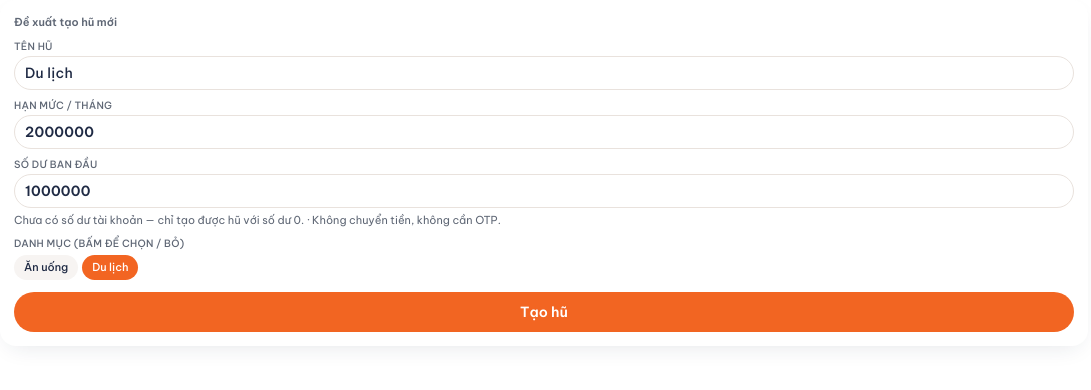
Scenario: AgentJarFormCard — create with an opening balance › pool unknown: says so and refuses a funded balance
Expected: the text "Chưa có số dư tài khoản — chỉ tạo được hũ với số dư 0." is shown, [14,212,304,226]
Click the button "Tạo hũ". click: (544, 312)
box: [14,292,1074,332]
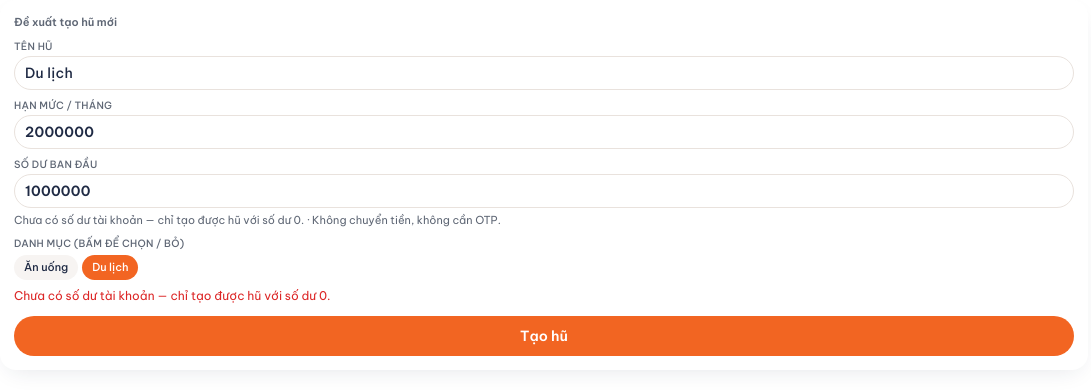
Now the message shows "chỉ tạo được hũ với số dư 0", box [14,288,330,302]
